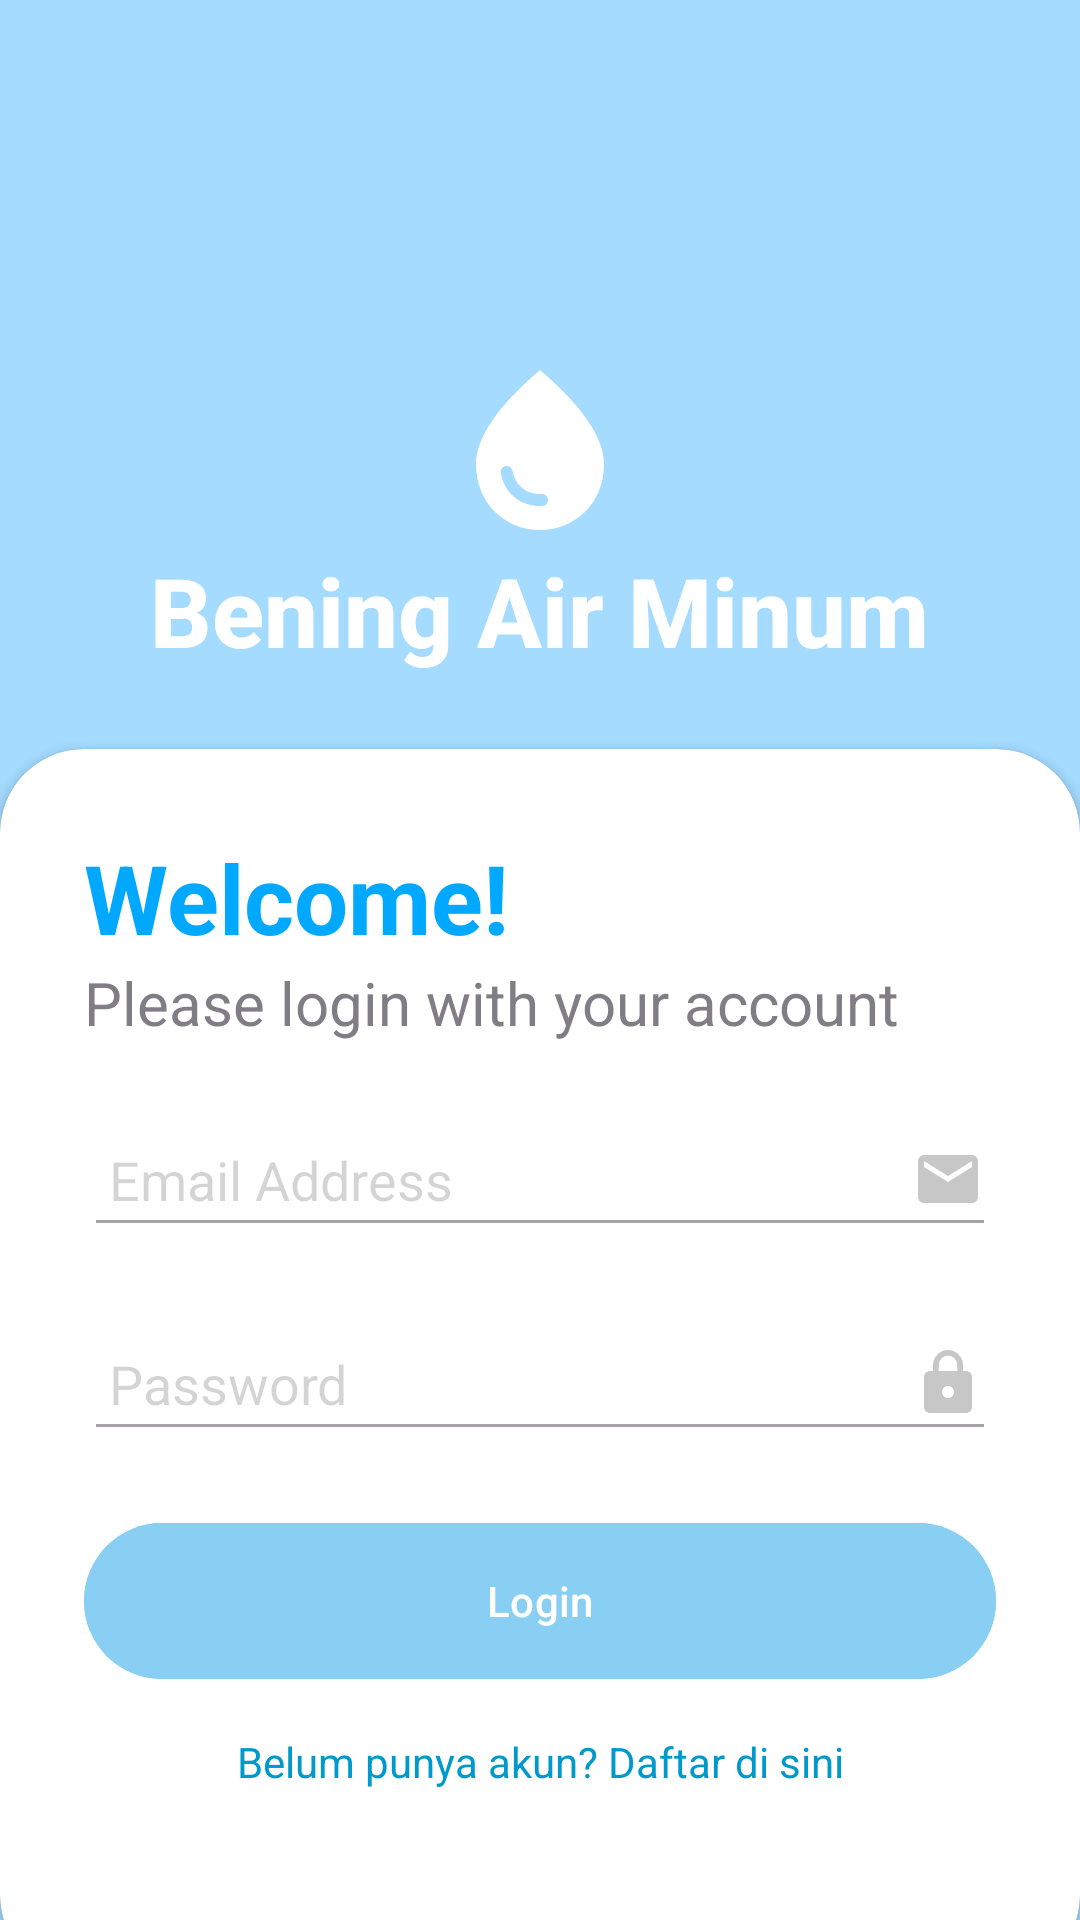

Locate icon controls on the screen. Image size 1080w x 1920h, boxes as (x1, y1, x2, y2).
water: (476, 370, 604, 530)
